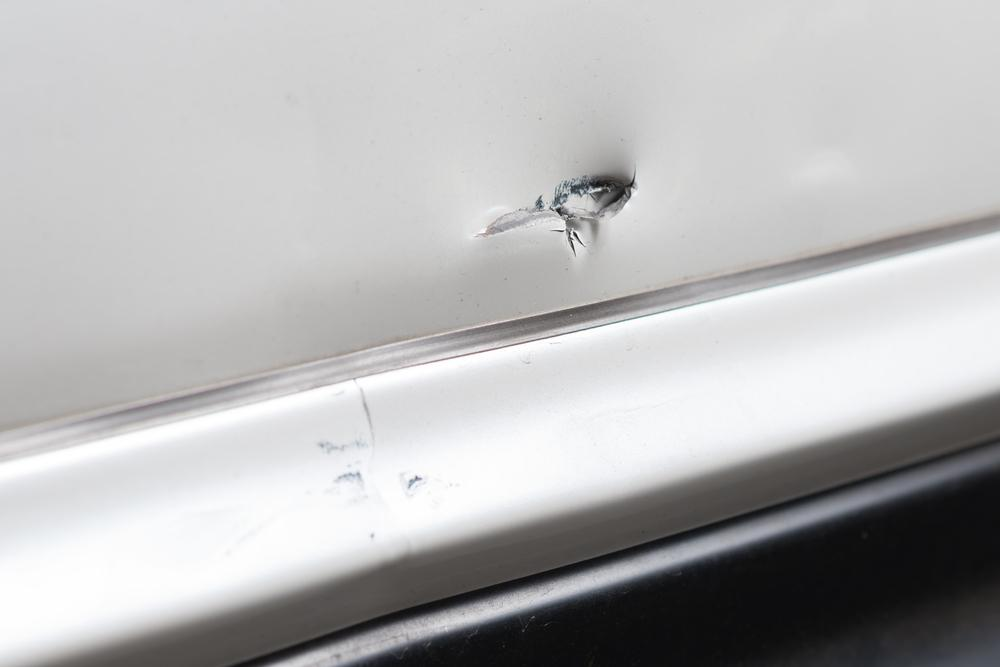dent: (466, 163, 641, 264)
